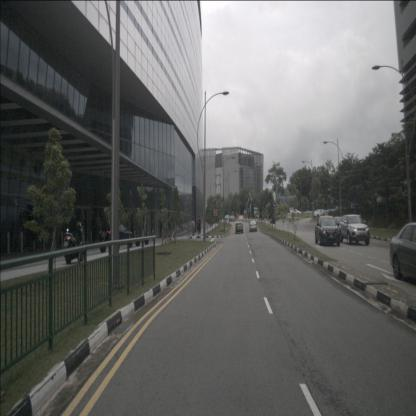human-pedestrian-adult: (191, 217, 196, 237), (196, 215, 200, 237), (197, 215, 201, 236)
vehicle-bicycle: (164, 227, 178, 245)
vehicle-car: (389, 222, 416, 284), (98, 216, 133, 253), (339, 214, 369, 245), (315, 215, 340, 246), (18, 201, 46, 227), (326, 216, 348, 243), (312, 209, 324, 218), (236, 221, 244, 234), (249, 220, 257, 232), (290, 209, 302, 216), (230, 215, 235, 222)
vehicle-motorcycle: (62, 212, 87, 266)
